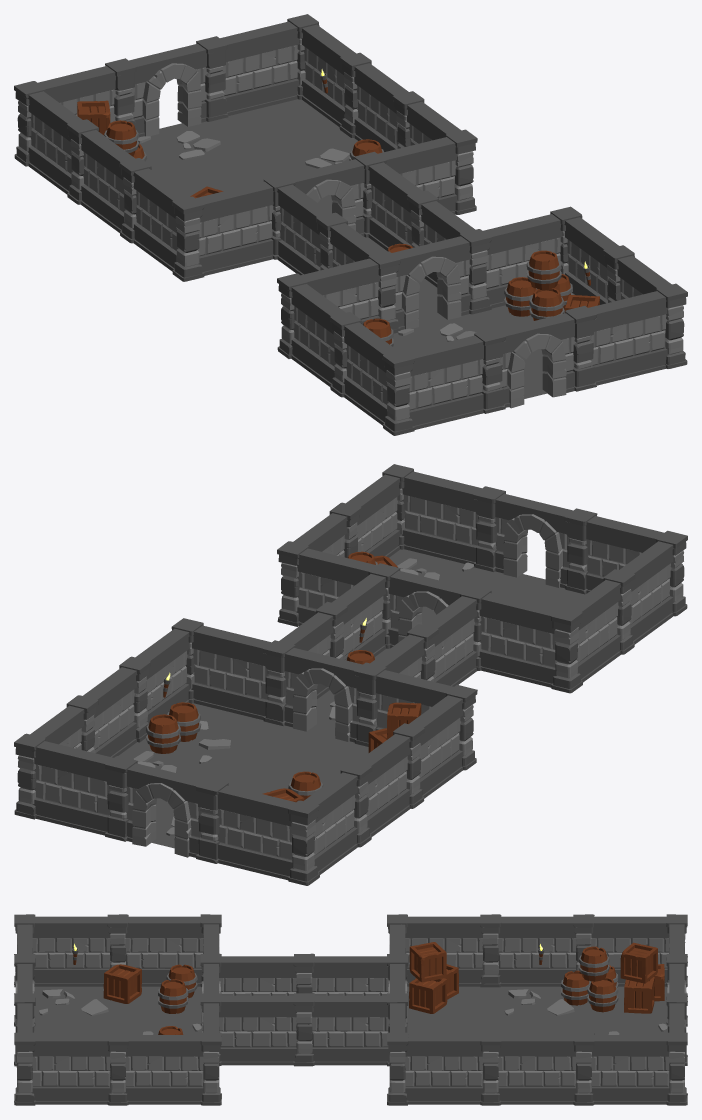
The model's file is Dungeon.fbx.
The picture shows the model from 3 angles, top to bottom: view 1: azimuth 30°, elevation 25°; view 2: azimuth 150°, elevation 25°; view 3: azimuth 270°, elevation 25°; orthographic projection. The views are drawn at different scales.
Visible parts, largest first — view 1: pillar square3.010, pillar square3.003, pillar square.017, pillar square3.012, pillar square3.005, pillar square3.002, pillar square.006, pillar square.019, pillar square3.008, pillar square.005, pillar square.008, pillar square.020 (+26 smaller); view 2: pillar square.021, pillar square.009, pillar square3.003, pillar square3.012, pillar square3.002, pillar square3.004, pillar square.005, pillar square.017, pillar square3.010, pillar square.008, pillar square.019, pillar square.020 (+26 smaller); view 3: pillar square.014, pillar square.003, pillar square.010, pillar square.004, pillar square.002, pillar square.015, pillar square.007, pillar square.011, pillar square.019, pillar square.020, pillar square.006, pillar square.012 (+36 smaller).
Part boxes in pixels (x1,y1,x2,y2): pillar square3.010: [406, 328, 505, 429]; pillar square3.003: [196, 21, 300, 121]; pillar square.017: [588, 283, 687, 385]; pillar square3.012: [497, 306, 596, 408]; pillar square3.005: [196, 174, 295, 275]; pillar square3.002: [105, 43, 207, 137]; pillar square.006: [132, 168, 204, 281]; pillar square.019: [343, 322, 414, 435]; pillar square3.008: [392, 236, 473, 329]; pillar square.005: [378, 129, 477, 214]; pillar square.008: [28, 91, 98, 204]; pillar square.020: [291, 284, 361, 397]; pillar square.021: [478, 593, 582, 693]; pillar square.009: [217, 785, 319, 885]; pillar square3.003: [33, 741, 137, 841]; pillar square3.012: [473, 486, 572, 588]; pillar square3.002: [126, 763, 228, 863]; pillar square3.004: [263, 640, 362, 742]; pillar square.005: [171, 618, 271, 720]; pillar square.017: [382, 464, 481, 564]; pillar square3.010: [564, 508, 663, 594]; pillar square.008: [303, 762, 372, 874]; pillar square.019: [619, 530, 687, 644]; pillar square.020: [567, 569, 635, 682]; pillar square.014: [124, 1032, 221, 1105]; pillar square.003: [497, 1032, 594, 1105]; pillar square.010: [293, 993, 389, 1066]; pillar square.004: [404, 1032, 501, 1105]; pillar square.002: [590, 1032, 687, 1105]; pillar square.015: [32, 1032, 128, 1105]; pillar square.007: [480, 914, 576, 987]; pillar square.011: [200, 993, 297, 1065]; pillar square.019: [14, 914, 111, 987]; pillar square.020: [107, 914, 203, 986]; pillar square.006: [387, 914, 483, 986]; pillar square.012: [293, 953, 389, 995].
Size of the model in its own units: 1293 by 324 by 2893.
